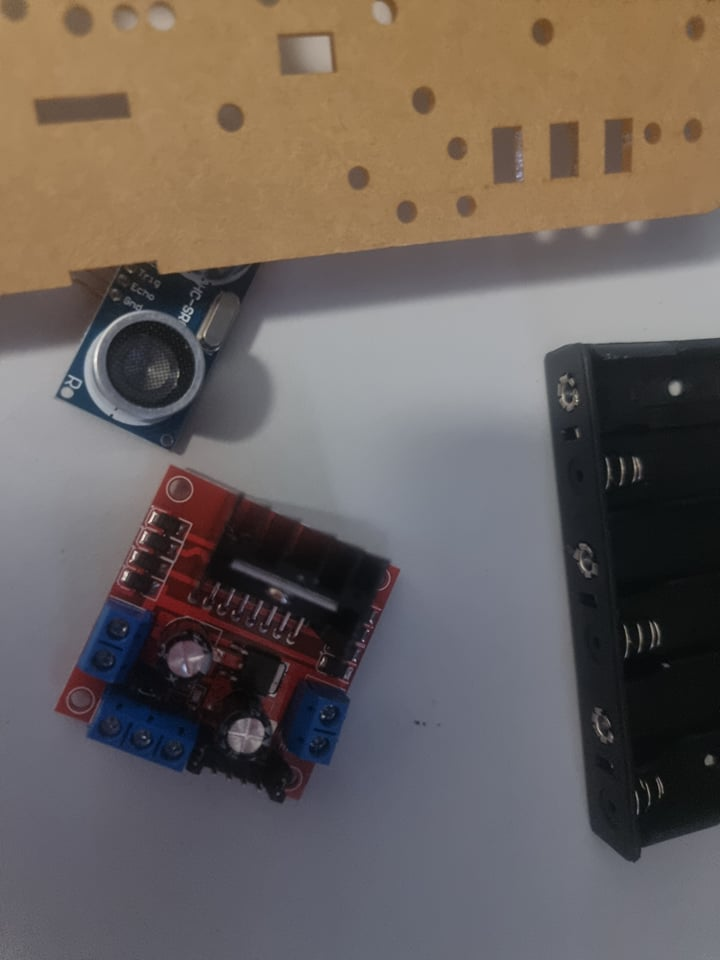BATTERY BOX: (535, 335, 720, 862)
MOTOR: (52, 465, 400, 802)
SENSOR: (25, 238, 272, 459)
